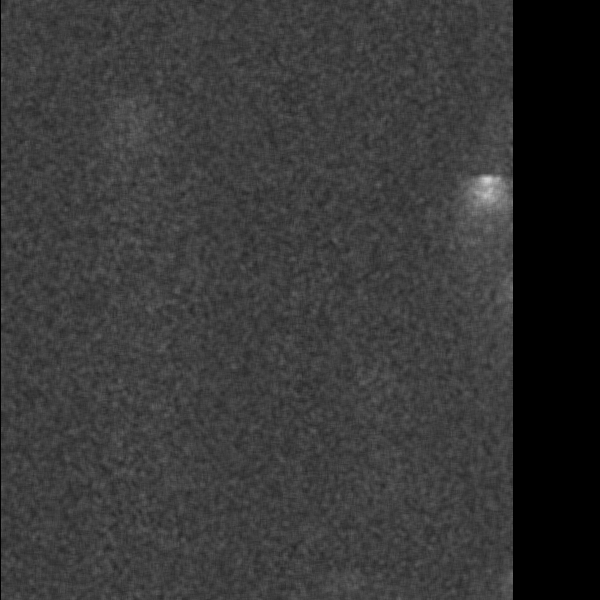spark: (294, 458, 357, 522)
